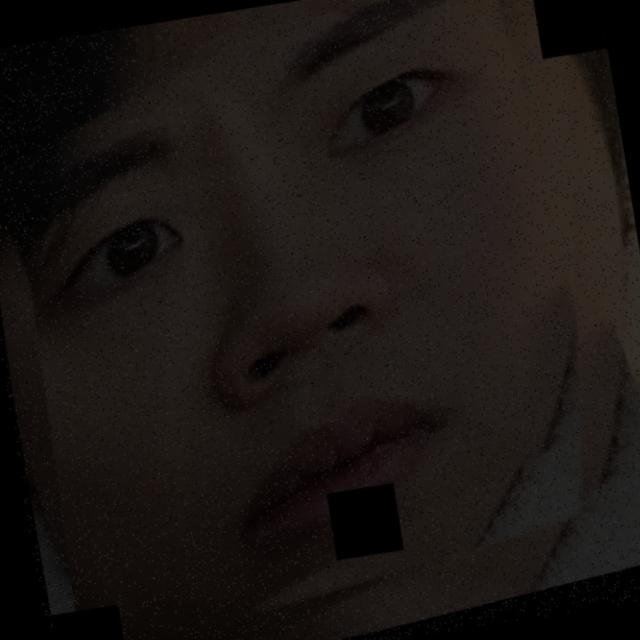Angry: (38, 32, 592, 593)
